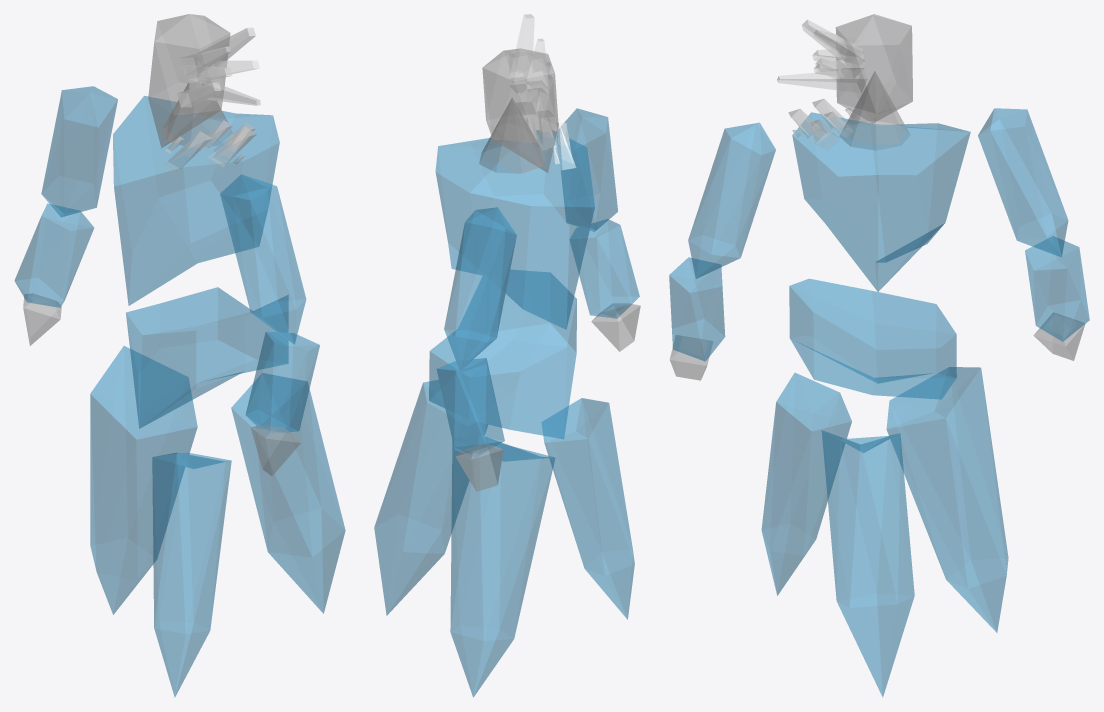
Rendered from ghostChargingLunge1.obj.
The picture shows the model from 3 angles, left to right: view 1: azimuth 30°, elevation 25°; view 2: azimuth 150°, elevation 25°; view 3: azimuth 270°, elevation 25°; orthographic projection. The views are drawn at different scales.
Visible parts, largest first — view 1: Cube.001_Cube.006, Icosphere.017, Icosphere.016, Cube_Cube.006, Icosphere.015, Icosphere.005_Icosphere.005, Icosphere.003_Icosphere.006, Icosphere.007_Icosphere.005, Icosphere.006_Icosphere.005, Icosphere.008_Icosphere.005, Cone_Cone.006, Cube.002_Cube.006 (+8 smaller); view 2: Cube.001_Cube.006, Cube_Cube.006, Icosphere.017, Icosphere.016, Icosphere.015, Icosphere.007_Icosphere.005, Icosphere.003_Icosphere.006, Icosphere.005_Icosphere.005, Icosphere.006_Icosphere.005, Icosphere.008_Icosphere.005, Cone_Cone.006, Cube.003_Cube.006 (+6 smaller); view 3: Cube.001_Cube.006, Icosphere.017, Icosphere.016, Cube_Cube.006, Icosphere.015, Icosphere.005_Icosphere.005, Icosphere.007_Icosphere.005, Icosphere.003_Icosphere.006, Icosphere.008_Icosphere.005, Icosphere.006_Icosphere.005, Cone_Cone.006, Cube.003_Cube.006 (+4 smaller).
Part boxes in pixels (x1,y1,x2,y2): Cube.001_Cube.006: [113, 96, 279, 305]; Icosphere.017: [90, 346, 197, 614]; Icosphere.016: [231, 373, 345, 613]; Cube_Cube.006: [126, 287, 288, 428]; Icosphere.015: [152, 452, 231, 697]; Icosphere.005_Icosphere.005: [220, 174, 306, 344]; Icosphere.003_Icosphere.006: [148, 14, 230, 147]; Icosphere.007_Icosphere.005: [41, 86, 117, 217]; Icosphere.006_Icosphere.005: [245, 331, 319, 433]; Icosphere.008_Icosphere.005: [14, 203, 93, 307]; Cone_Cone.006: [162, 83, 232, 146]; Cube.002_Cube.006: [251, 425, 300, 475]; Cube.001_Cube.006: [435, 130, 594, 329]; Cube_Cube.006: [429, 270, 576, 439]; Icosphere.017: [450, 434, 555, 697]; Icosphere.016: [374, 380, 487, 615]; Icosphere.015: [542, 398, 634, 619]; Icosphere.007_Icosphere.005: [444, 207, 516, 370]; Icosphere.003_Icosphere.006: [482, 48, 558, 172]; Icosphere.005_Icosphere.005: [557, 108, 617, 231]; Icosphere.006_Icosphere.005: [570, 219, 639, 318]; Icosphere.008_Icosphere.005: [436, 358, 504, 457]; Cone_Cone.006: [479, 98, 542, 173]; Cube.003_Cube.006: [455, 444, 503, 491]; Cube.001_Cube.006: [792, 112, 970, 291]; Icosphere.017: [886, 367, 1008, 632]; Icosphere.016: [821, 430, 914, 696]; Cube_Cube.006: [789, 278, 956, 399]; Icosphere.015: [761, 373, 851, 595]; Icosphere.005_Icosphere.005: [688, 122, 775, 278]; Icosphere.007_Icosphere.005: [978, 108, 1068, 257]; Icosphere.003_Icosphere.006: [835, 14, 912, 122]; Icosphere.008_Icosphere.005: [1025, 236, 1089, 341]; Icosphere.006_Icosphere.005: [669, 257, 725, 361]; Cone_Cone.006: [839, 71, 910, 150]; Cube.003_Cube.006: [1033, 312, 1085, 360].
Bounding box in the file's own units: 17.02 × 47.43 × 28.66.
